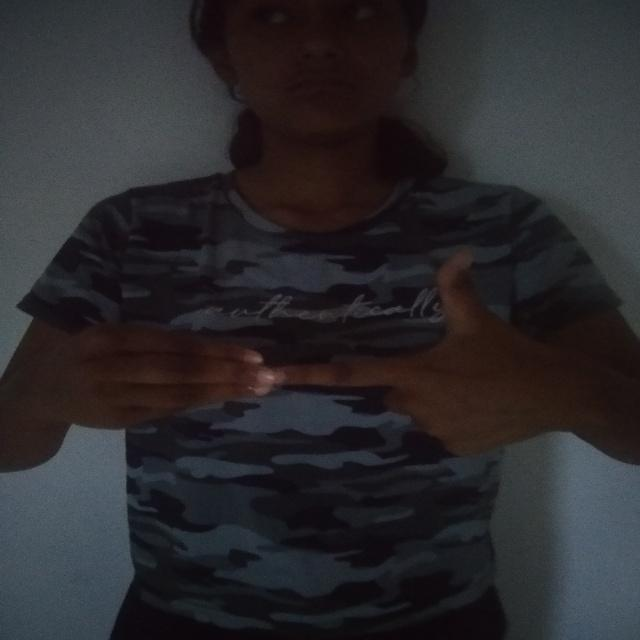Five Fathers: (34, 246, 550, 467)
